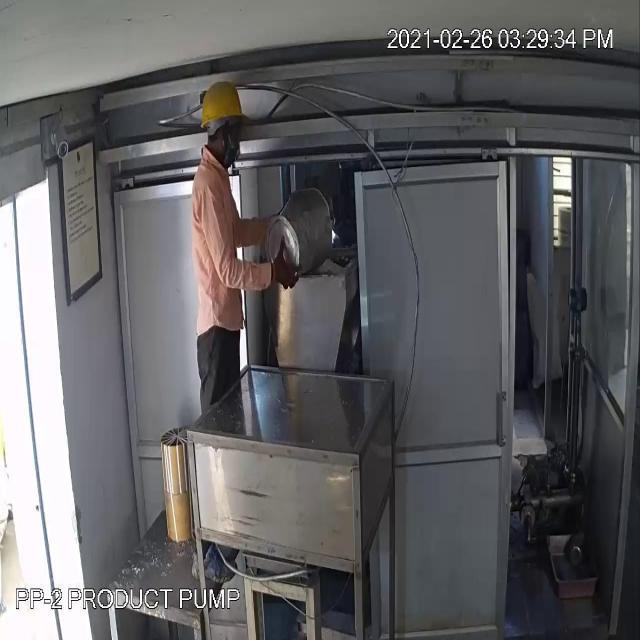hat: (198, 76, 250, 135)
